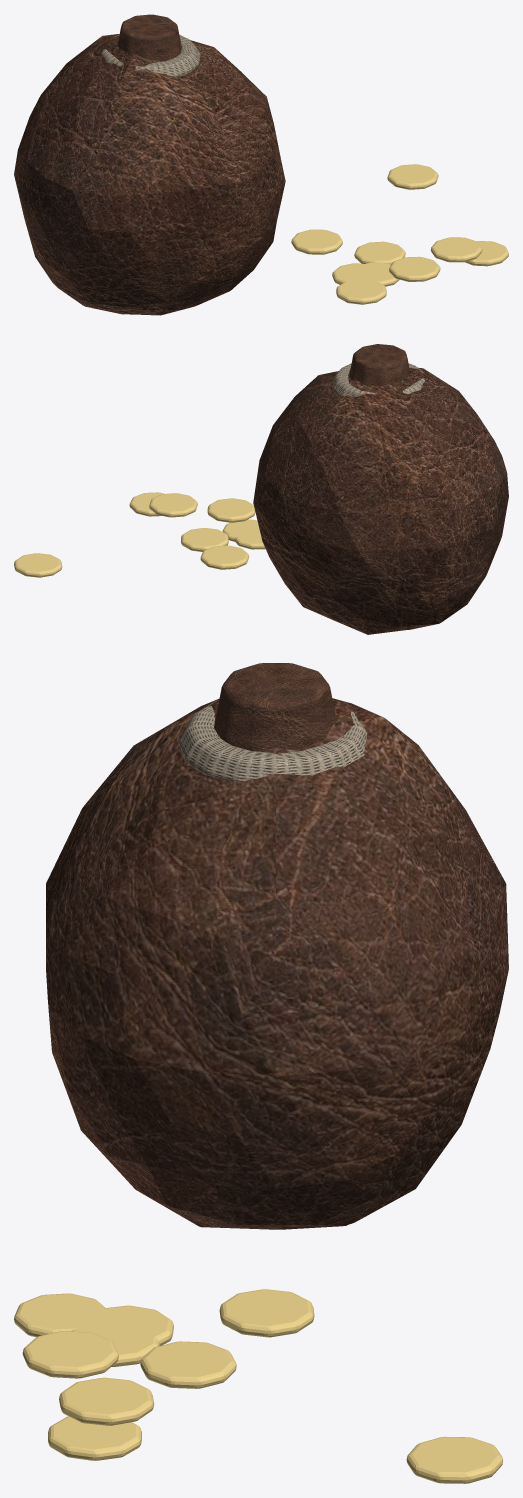
File: coin-purse-v01.glb
The picture shows the model from 3 angles, top to bottom: view 1: azimuth 30°, elevation 25°; view 2: azimuth 150°, elevation 25°; view 3: azimuth 270°, elevation 25°; orthographic projection. The views are drawn at different scales.
Visible parts, largest first — view 1: coin-purse; view 2: coin-purse; view 3: coin-purse.
Part boxes in pixels (x1,y1,x2,y2): coin-purse: (14,14,508,315); coin-purse: (14,344,508,634); coin-purse: (14,663,508,1483).
Bounding box in the file's own units: 0.7912 × 0.445 × 0.4001.
3 materials, 2 textured.
